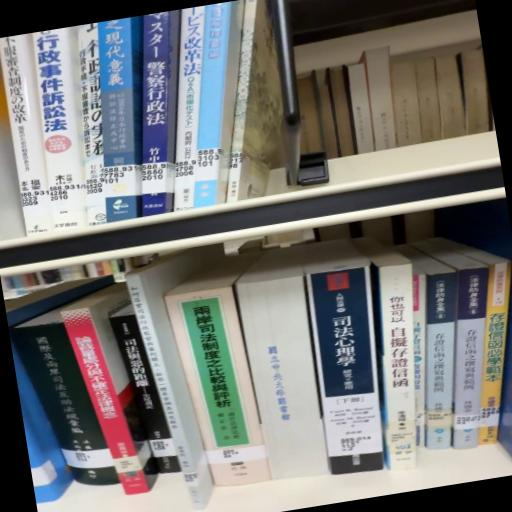backward: (236, 247, 330, 480)
book: (4, 280, 159, 502), (299, 260, 406, 481), (354, 253, 453, 473), (169, 281, 269, 457), (398, 270, 486, 458), (427, 259, 512, 450), (109, 301, 180, 481), (469, 266, 512, 477)
